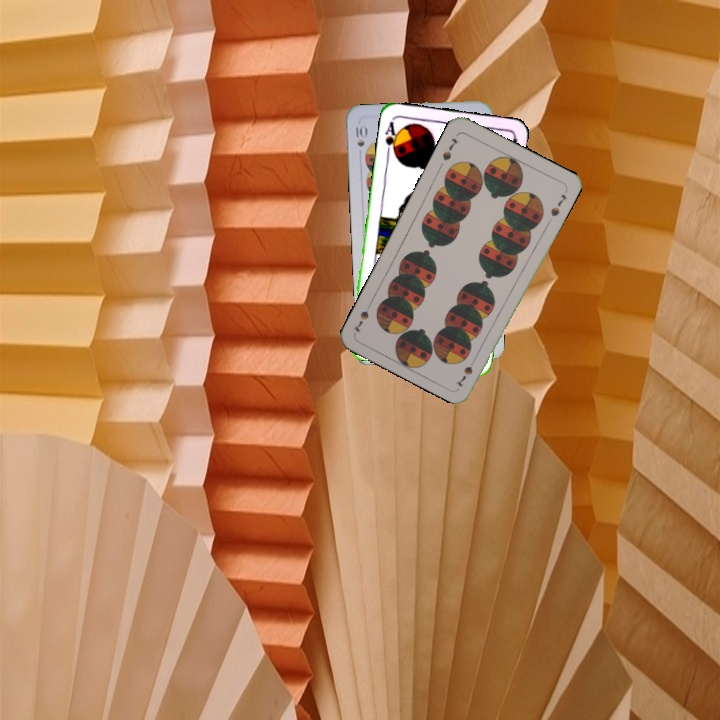S10: (351, 121, 368, 149)
S7: (454, 352, 480, 389), (439, 134, 461, 163)
SA: (381, 118, 402, 158)
